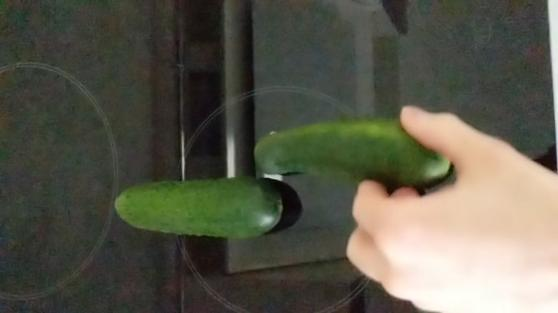cucumber: (250, 116, 454, 185), (112, 167, 286, 243)
